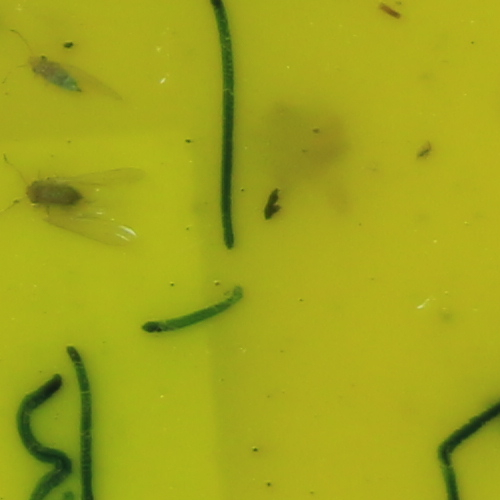Glycaspis: (25, 53, 85, 96), (23, 179, 85, 211)
